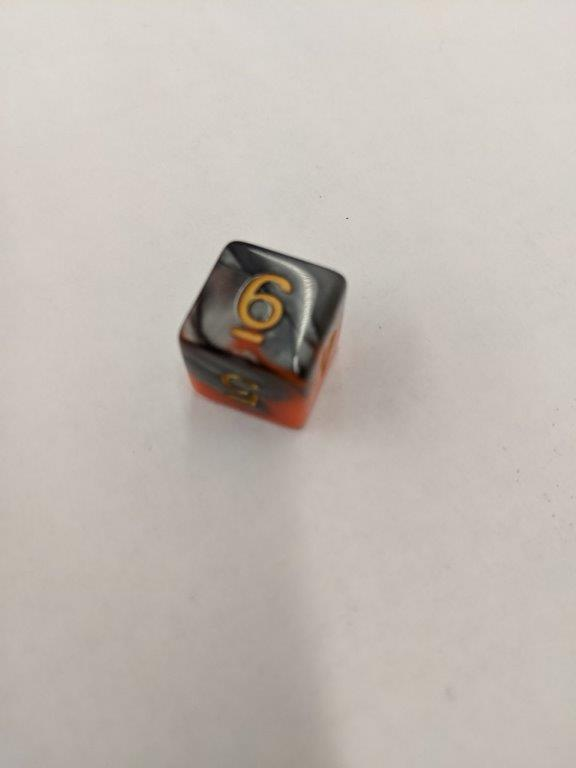d6-6: (173, 239, 348, 431)
